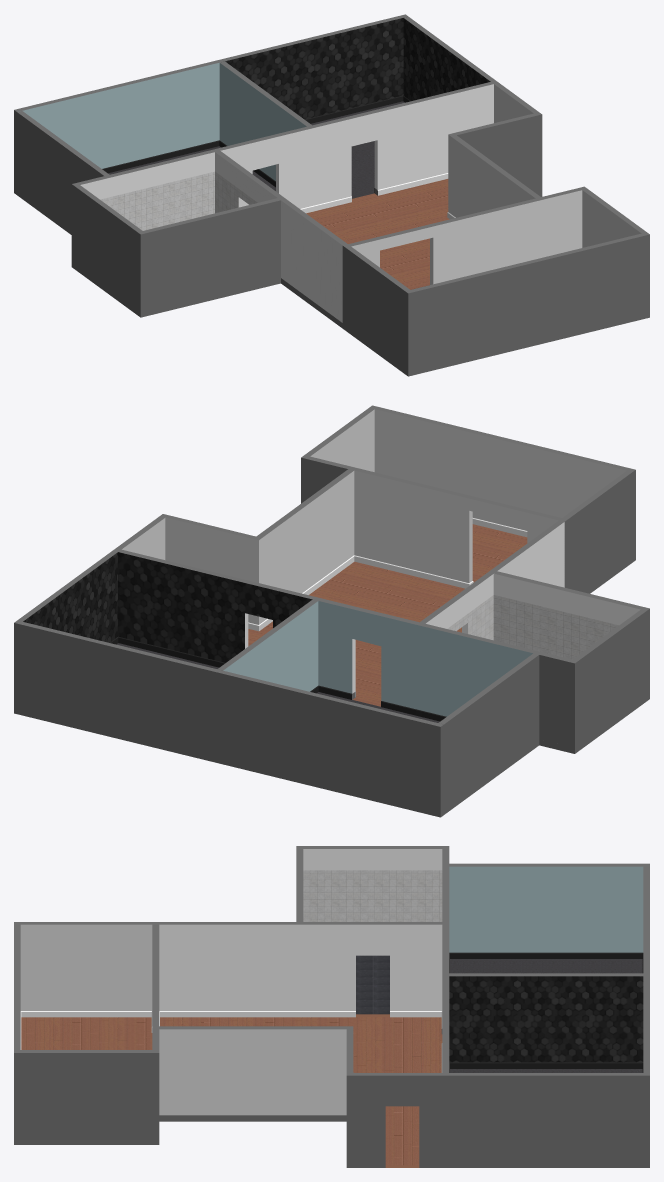
File: House.fbx
3 views of the same model, one above another, from view 1: azimuth 30°, elevation 25°; view 2: azimuth 150°, elevation 25°; view 3: azimuth 270°, elevation 25° (orthographic). The views are drawn at different scales.
Visible parts, largest first — view 1: Wall.029, Wall, Wall.021, Wall.012, Wall.020, Wall.023, Wall.001, Wall.004, Wall.002, Wall.015, Wall.030, Wall.019 (+8 smaller); view 2: Wall.021, Wall.023, Wall, Wall.029, Wall.001, Wall.012, Wall.004, Wall.015, Wall.020, Wall.013, Wall.002, Wall.019 (+8 smaller); view 3: Wall, Wall.001, Wall.022, Wall.015, Wall.024, Wall.008, Wall.030, Wall.028, Wall.017, Wall.019, Wall.029, Wall.023 (+6 smaller).
Boxes of the visible parts, x1,y1,x2,y2 form: Wall.029: (405,232,649,370); Wall: (14,95,649,376); Wall.021: (14,60,219,189); Wall.012: (307,82,493,206); Wall.020: (137,198,280,311); Wall.023: (217,14,407,119); Wall.001: (448,80,542,217); Wall.004: (348,198,538,284); Wall.002: (105,148,219,230); Wall.015: (17,111,109,229); Wall.030: (342,244,409,368); Wall.019: (75,185,142,309); Wall.021: (220,670,443,811); Wall.023: (14,620,222,757); Wall: (14,518,649,817); Wall.029: (369,405,635,555); Wall.001: (113,469,354,624); Wall.012: (118,549,321,662); Wall.004: (354,468,561,582); Wall.015: (438,653,539,808); Wall.020: (493,571,649,694); Wall.013: (318,598,418,709); Wall.002: (416,622,541,716); Wall.019: (573,609,646,745); Wall: (14,952,649,1167); Wall.001: (159,1026,449,1161); Wall.022: (449,973,643,1062); Wall.015: (449,863,643,952); Wall.024: (449,1073,643,1161); Wall.008: (159,922,296,1010); Wall.030: (20,922,159,1010); Wall.028: (20,1050,152,1138); Wall.017: (296,922,442,1010); Wall.019: (303,846,442,921); Wall.029: (14,922,20,1138); Wall.023: (643,973,649,1161).
Size of the model in its own units: 16.01 by 3 by 18.74.
